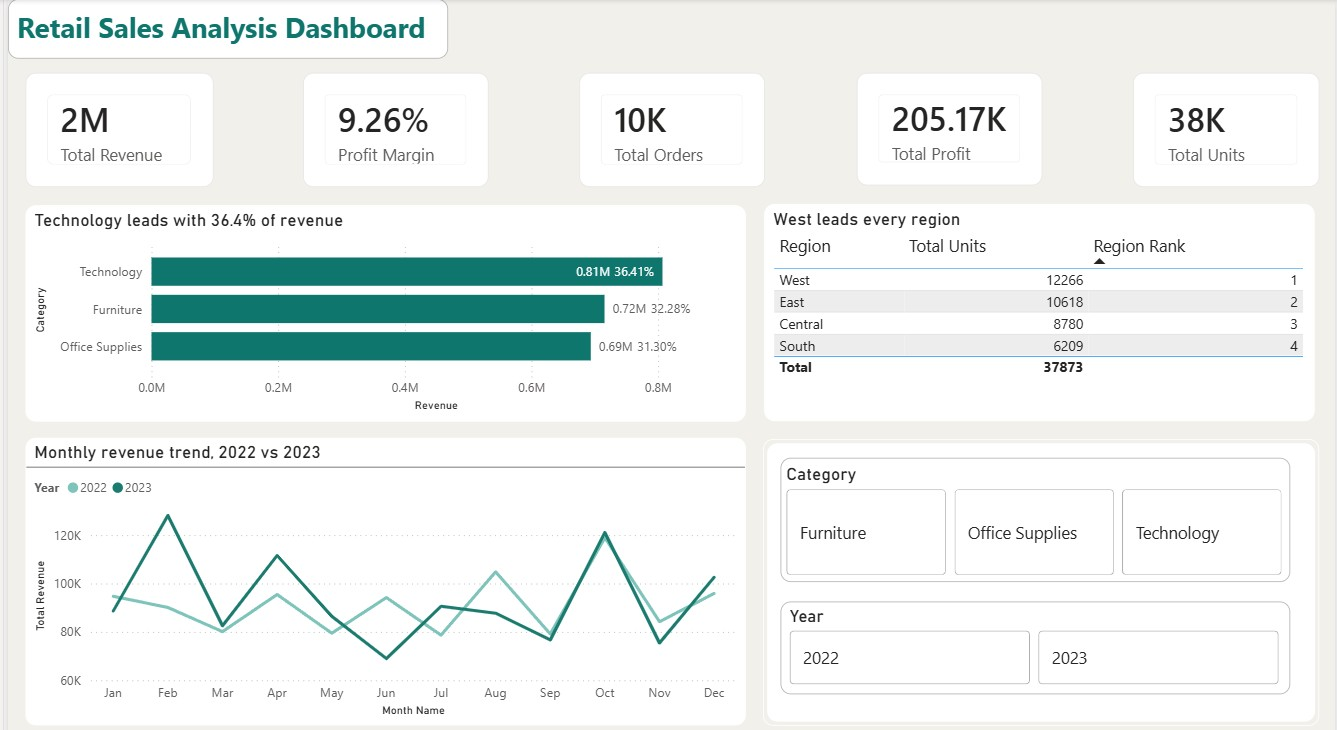

The dashboard page shown, as its layout file describes it:
{"tool":"powerbi","page":{"name":"Page 2","canvas":[1280,720],"ordinal":1},"visuals":[{"type":"shape","box":[728.6,424.2,536.7,277],"z":0},{"type":"tableEx","title":"West leads every region","fields":{"Values":["dim_geography.Region","fact_orders.Total Units","fact_orders.Region Rank"]},"box":[730,197.7,530.9,209.2],"z":1000},{"type":"advancedSlicerVisual","fields":{"Values":["dim_product.Category"]},"box":[745.9,442.9,492,119.7],"z":2000},{"type":"cardVisual","fields":{"Data":["fact_orders.Total Revenue"]},"box":[16.3,70.7,181.2,110.5],"z":3000},{"type":"cardVisual","fields":{"Data":["fact_orders.Total Profit"]},"box":[818.6,70.7,179.4,108.7],"z":4000},{"type":"cardVisual","fields":{"Data":["fact_orders.Profit Margin"]},"box":[284.9,70.7,179.4,110.5],"z":5000},{"type":"cardVisual","fields":{"Data":["fact_orders.Total Orders"]},"box":[551.8,70.7,179.4,110.5],"z":6000},{"type":"lineChart","title":"Monthly revenue trend, 2022 vs 2023","fields":{"Category":["dim_date.Month Name"],"Y":["fact_orders.Total Revenue"],"Series":["dim_date.Year"]},"box":[16.9,423.5,694.9,277.5],"z":7000},{"type":"clusteredBarChart","title":"Technology leads with 36.4% of revenue","fields":{"Category":["dim_product.Category"],"Y":["fact_orders.Total Revenue"]},"box":[16.9,199.1,694.9,208.7],"z":8000},{"type":"advancedSlicerVisual","fields":{"Values":["dim_date.Year"]},"box":[745.9,581.4,492,89.5],"z":9000},{"type":"textbox","box":[0,0,424.7,57.9],"z":10000},{"type":"cardVisual","fields":{"Data":["fact_orders.Total Units"]},"box":[1085.4,70.7,180,110],"z":11000}]}

Visuals, with their boxes on the page's 1280x720 design canvas (x1, y1, x2, y2). These are canvas units, not pixel positions in the 1337x730 screenshot, which may show the page scaled, cropped or inside an application window:
shape: [729,424,1265,701]
"West leads every region" tableEx: [730,198,1261,407]
advancedSlicerVisual - dim_product.Category: [746,443,1238,563]
cardVisual - fact_orders.Total Revenue: [16,71,198,181]
cardVisual - fact_orders.Total Profit: [819,71,998,179]
cardVisual - fact_orders.Profit Margin: [285,71,464,181]
cardVisual - fact_orders.Total Orders: [552,71,731,181]
"Monthly revenue trend, 2022 vs 2023" lineChart: [17,424,712,701]
"Technology leads with 36.4% of revenue" clusteredBarChart: [17,199,712,408]
advancedSlicerVisual - dim_date.Year: [746,581,1238,671]
textbox: [0,0,425,58]
cardVisual - fact_orders.Total Units: [1085,71,1265,181]
